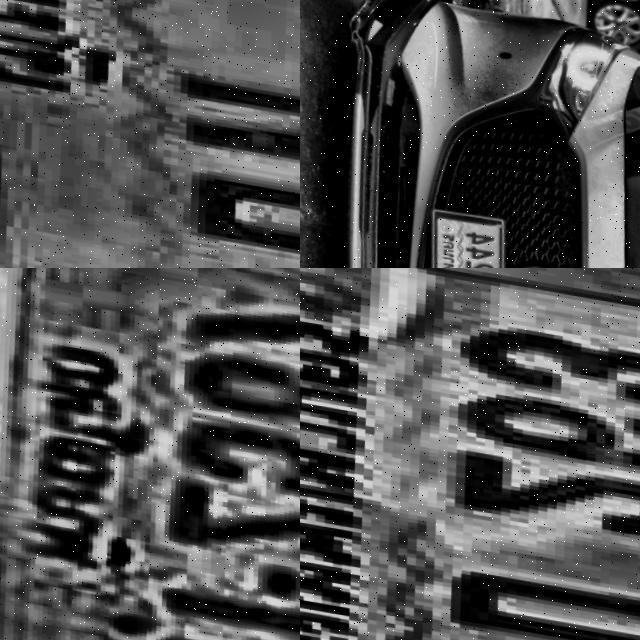license-plate: (300, 268, 640, 640), (0, 268, 300, 640), (0, 0, 300, 268), (404, 203, 515, 268)
